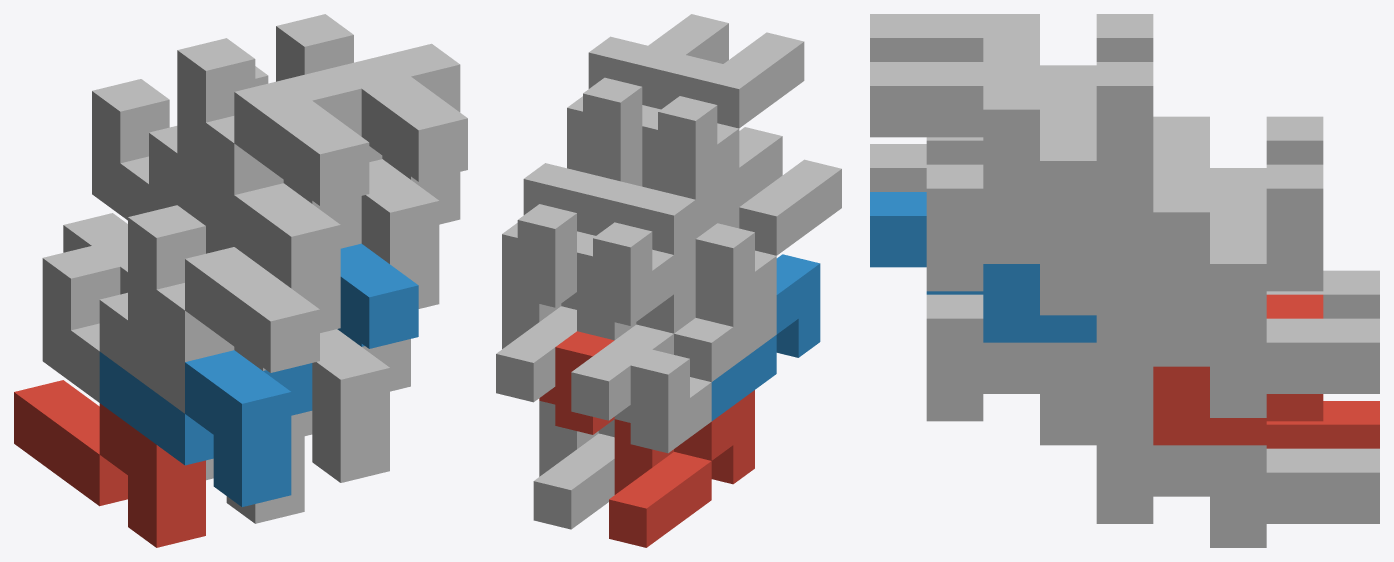
The model's file is tiling.obj.
3 views of the same model, side by side, from view 1: azimuth 30°, elevation 25°; view 2: azimuth 150°, elevation 25°; view 3: azimuth 270°, elevation 25° (orthographic). The views are drawn at different scales.
Parts seen in each view (by area): view 1: copy_2_domain_4, copy_2_domain_2, copy_1_domain_2, copy_1_domain_1, copy_2_domain_8, copy_2_domain_1, copy_2_domain_3, copy_1_domain_6, copy_1_domain_4, copy_1_domain_8, copy_2_domain_6, copy_1_domain_3 (+1 smaller); view 2: copy_2_domain_4, copy_2_domain_3, copy_2_domain_2, copy_2_domain_8, copy_1_domain_1, copy_2_domain_1, copy_2_domain_7, copy_1_domain_3, copy_1_domain_5, copy_1_domain_2, copy_1_domain_7, copy_1_domain_4 (+1 smaller); view 3: copy_2_domain_8, copy_2_domain_7, copy_1_domain_5, copy_1_domain_7, copy_1_domain_8, copy_1_domain_6, copy_2_domain_4, copy_2_domain_6, copy_2_domain_5, copy_2_domain_3, copy_1_domain_1, copy_1_domain_3 (+2 smaller).
Part boxes in pixels (x1=…): copy_2_domain_4: x1=177, y1=38, x2=369, y2=205; copy_2_domain_2: x1=128, y1=205, x2=319, y2=372; copy_1_domain_2: x1=99, y1=350, x2=312, y2=506; copy_1_domain_1: x1=14, y1=380, x2=205, y2=547; copy_2_domain_8: x1=276, y1=14, x2=467, y2=181; copy_2_domain_1: x1=42, y1=246, x2=184, y2=413; copy_2_domain_3: x1=92, y1=79, x2=234, y2=246; copy_1_domain_6: x1=291, y1=329, x2=410, y2=482; copy_1_domain_4: x1=149, y1=183, x2=361, y2=332; copy_1_domain_8: x1=361, y1=159, x2=460, y2=308; copy_2_domain_6: x1=337, y1=243, x2=418, y2=348; copy_1_domain_3: x1=63, y1=213, x2=127, y2=294; copy_2_domain_4: x1=642, y1=32, x2=804, y2=199; copy_2_domain_3: x1=577, y1=168, x2=739, y2=325; copy_2_domain_2: x1=695, y1=159, x2=841, y2=326; copy_2_domain_8: x1=567, y1=14, x2=728, y2=181; copy_1_domain_1: x1=609, y1=390, x2=754, y2=547; copy_2_domain_1: x1=614, y1=295, x2=776, y2=453; copy_2_domain_7: x1=502, y1=163, x2=642, y2=307; copy_1_domain_3: x1=571, y1=279, x2=695, y2=420; copy_1_domain_5: x1=533, y1=401, x2=614, y2=529; copy_1_domain_2: x1=711, y1=254, x2=820, y2=420; copy_1_domain_7: x1=496, y1=273, x2=576, y2=402; copy_1_domain_4: x1=642, y1=127, x2=782, y2=293; copy_2_domain_8: x1=870, y1=62, x2=1153, y2=212; copy_2_domain_7: x1=1096, y1=164, x2=1323, y2=315; copy_1_domain_5: x1=1096, y1=421, x2=1379, y2=547; copy_1_domain_7: x1=1096, y1=291, x2=1379, y2=417; copy_1_domain_8: x1=926, y1=164, x2=1153, y2=315; copy_1_domain_6: x1=926, y1=294, x2=1153, y2=445; copy_2_domain_4: x1=870, y1=14, x2=1153, y2=113; copy_2_domain_6: x1=870, y1=192, x2=1096, y2=342; copy_2_domain_5: x1=1153, y1=294, x2=1323, y2=445; copy_2_domain_3: x1=1153, y1=116, x2=1323, y2=215; copy_1_domain_1: x1=1266, y1=401, x2=1379, y2=448; copy_1_domain_3: x1=1266, y1=270, x2=1379, y2=318.
Bounding box in the file's own units: 5 × 9 × 9.
